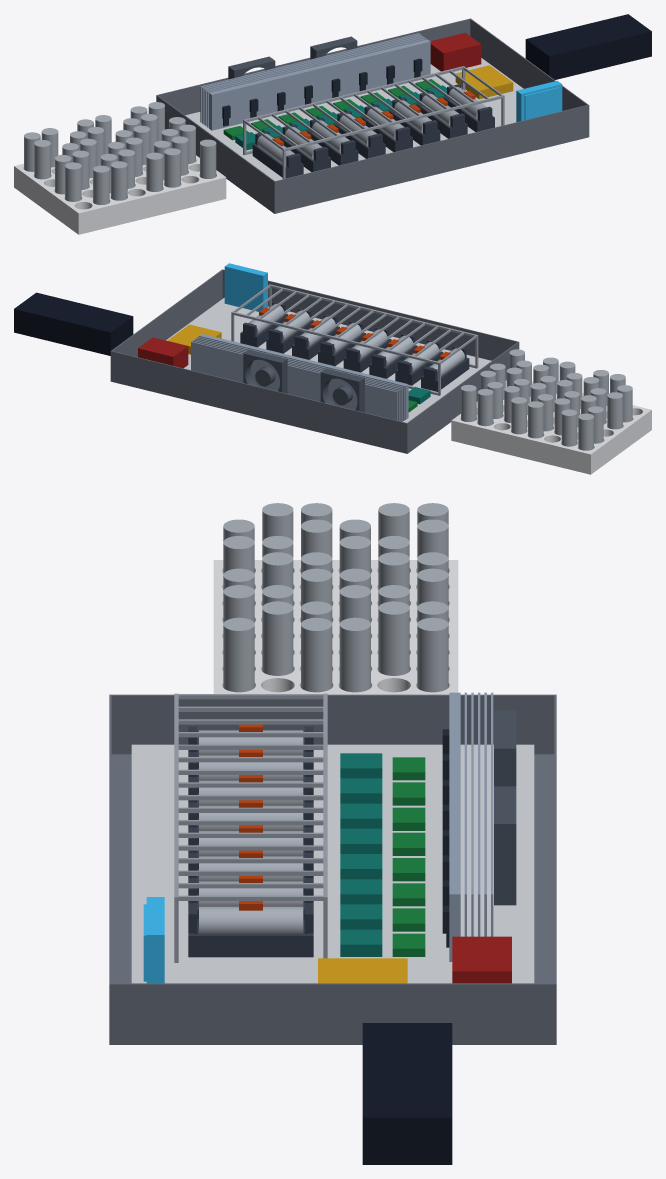
3 renders of one model, top to bottom at view 1: azimuth 30°, elevation 25°; view 2: azimuth 150°, elevation 25°; view 3: azimuth 270°, elevation 25°, orthographic. The views are drawn at different scales.
Visible parts, largest first — view 1: Steel tray with ceramic fibre liner, Cells resting (not supplied), Heatsink bar, Self-discharge rest rack, 48 cells, Cell holders, four-wire contacts, 12 V 5 A certified adapter, Perforated steel cell guard, Base plate on standoffs, Cells under test (not supplied), Power inlet, fuse and switch, Display and buttons, Load MOSFETs (+5 smaller); view 2: Steel tray with ceramic fibre liner, Cells resting (not supplied), Heatsink bar, Self-discharge rest rack, 48 cells, Cell holders, four-wire contacts, 12 V 5 A certified adapter, Perforated steel cell guard, Cells under test (not supplied), Base plate on standoffs, Fans, 60 mm, Display and buttons, Power inlet, fuse and switch (+2 smaller); view 3: Steel tray with ceramic fibre liner, Base plate on standoffs, Cells resting (not supplied), Perforated steel cell guard, 12 V 5 A certified adapter, Cells under test (not supplied), Self-discharge rest rack, 48 cells, Charger modules, 1 A CC-CV, Heatsink bar, Channel sense and switch boards, Cell holders, four-wire contacts, Fans, 60 mm (+5 smaller).
Boxes of the visible parts, x1,y1,x2,y2 form: Steel tray with ceramic fibre liner: (156, 18, 589, 213); Cells resting (not supplied): (24, 102, 216, 204); Heatsink bar: (200, 33, 430, 130); Self-discharge rest rack, 48 cells: (14, 141, 226, 234); Cell holders, four-wire contacts: (252, 84, 494, 178); 12 V 5 A certified adapter: (525, 14, 651, 79); Perforated steel cell guard: (243, 66, 504, 178); Base plate on standoffs: (185, 58, 523, 180); Cells under test (not supplied): (257, 87, 486, 166); Power inlet, fuse and switch: (430, 32, 481, 71); Display and buttons: (516, 80, 562, 122); Load MOSFETs: (222, 58, 422, 126); Steel tray with ceramic fibre liner: (110, 269, 519, 453); Cells resting (not supplied): (461, 349, 632, 450); Heatsink bar: (191, 334, 408, 421); Self-discharge rest rack, 48 cells: (451, 380, 651, 474); Cell holders, four-wire contacts: (240, 301, 469, 391); 12 V 5 A certified adapter: (14, 292, 133, 355); Perforated steel cell guard: (231, 284, 478, 395); Cells under test (not supplied): (248, 304, 464, 379); Base plate on standoffs: (166, 297, 491, 422); Fans, 60 mm: (243, 349, 364, 412); Display and buttons: (224, 263, 267, 311); Power inlet, fuse and switch: (138, 337, 188, 368); Steel tray with ceramic fibre liner: (109, 694, 556, 1044); Base plate on standoffs: (131, 744, 534, 983); Cells resting (not supplied): (223, 503, 448, 692); Perforated steel cell guard: (174, 693, 327, 962); 12 V 5 A certified adapter: (362, 1023, 452, 1164); Cells under test (not supplied): (199, 730, 303, 933); Self-discharge rest rack, 48 cells: (213, 560, 458, 694); Charger modules, 1 A CC-CV: (340, 753, 382, 956); Heatsink bar: (449, 692, 493, 961); Channel sense and switch boards: (392, 757, 425, 956); Cell holders, four-wire contacts: (188, 726, 313, 957); Fans, 60 mm: (494, 710, 516, 905).
Size of the model in its own units: 0.896 by 0.075 by 0.3.
